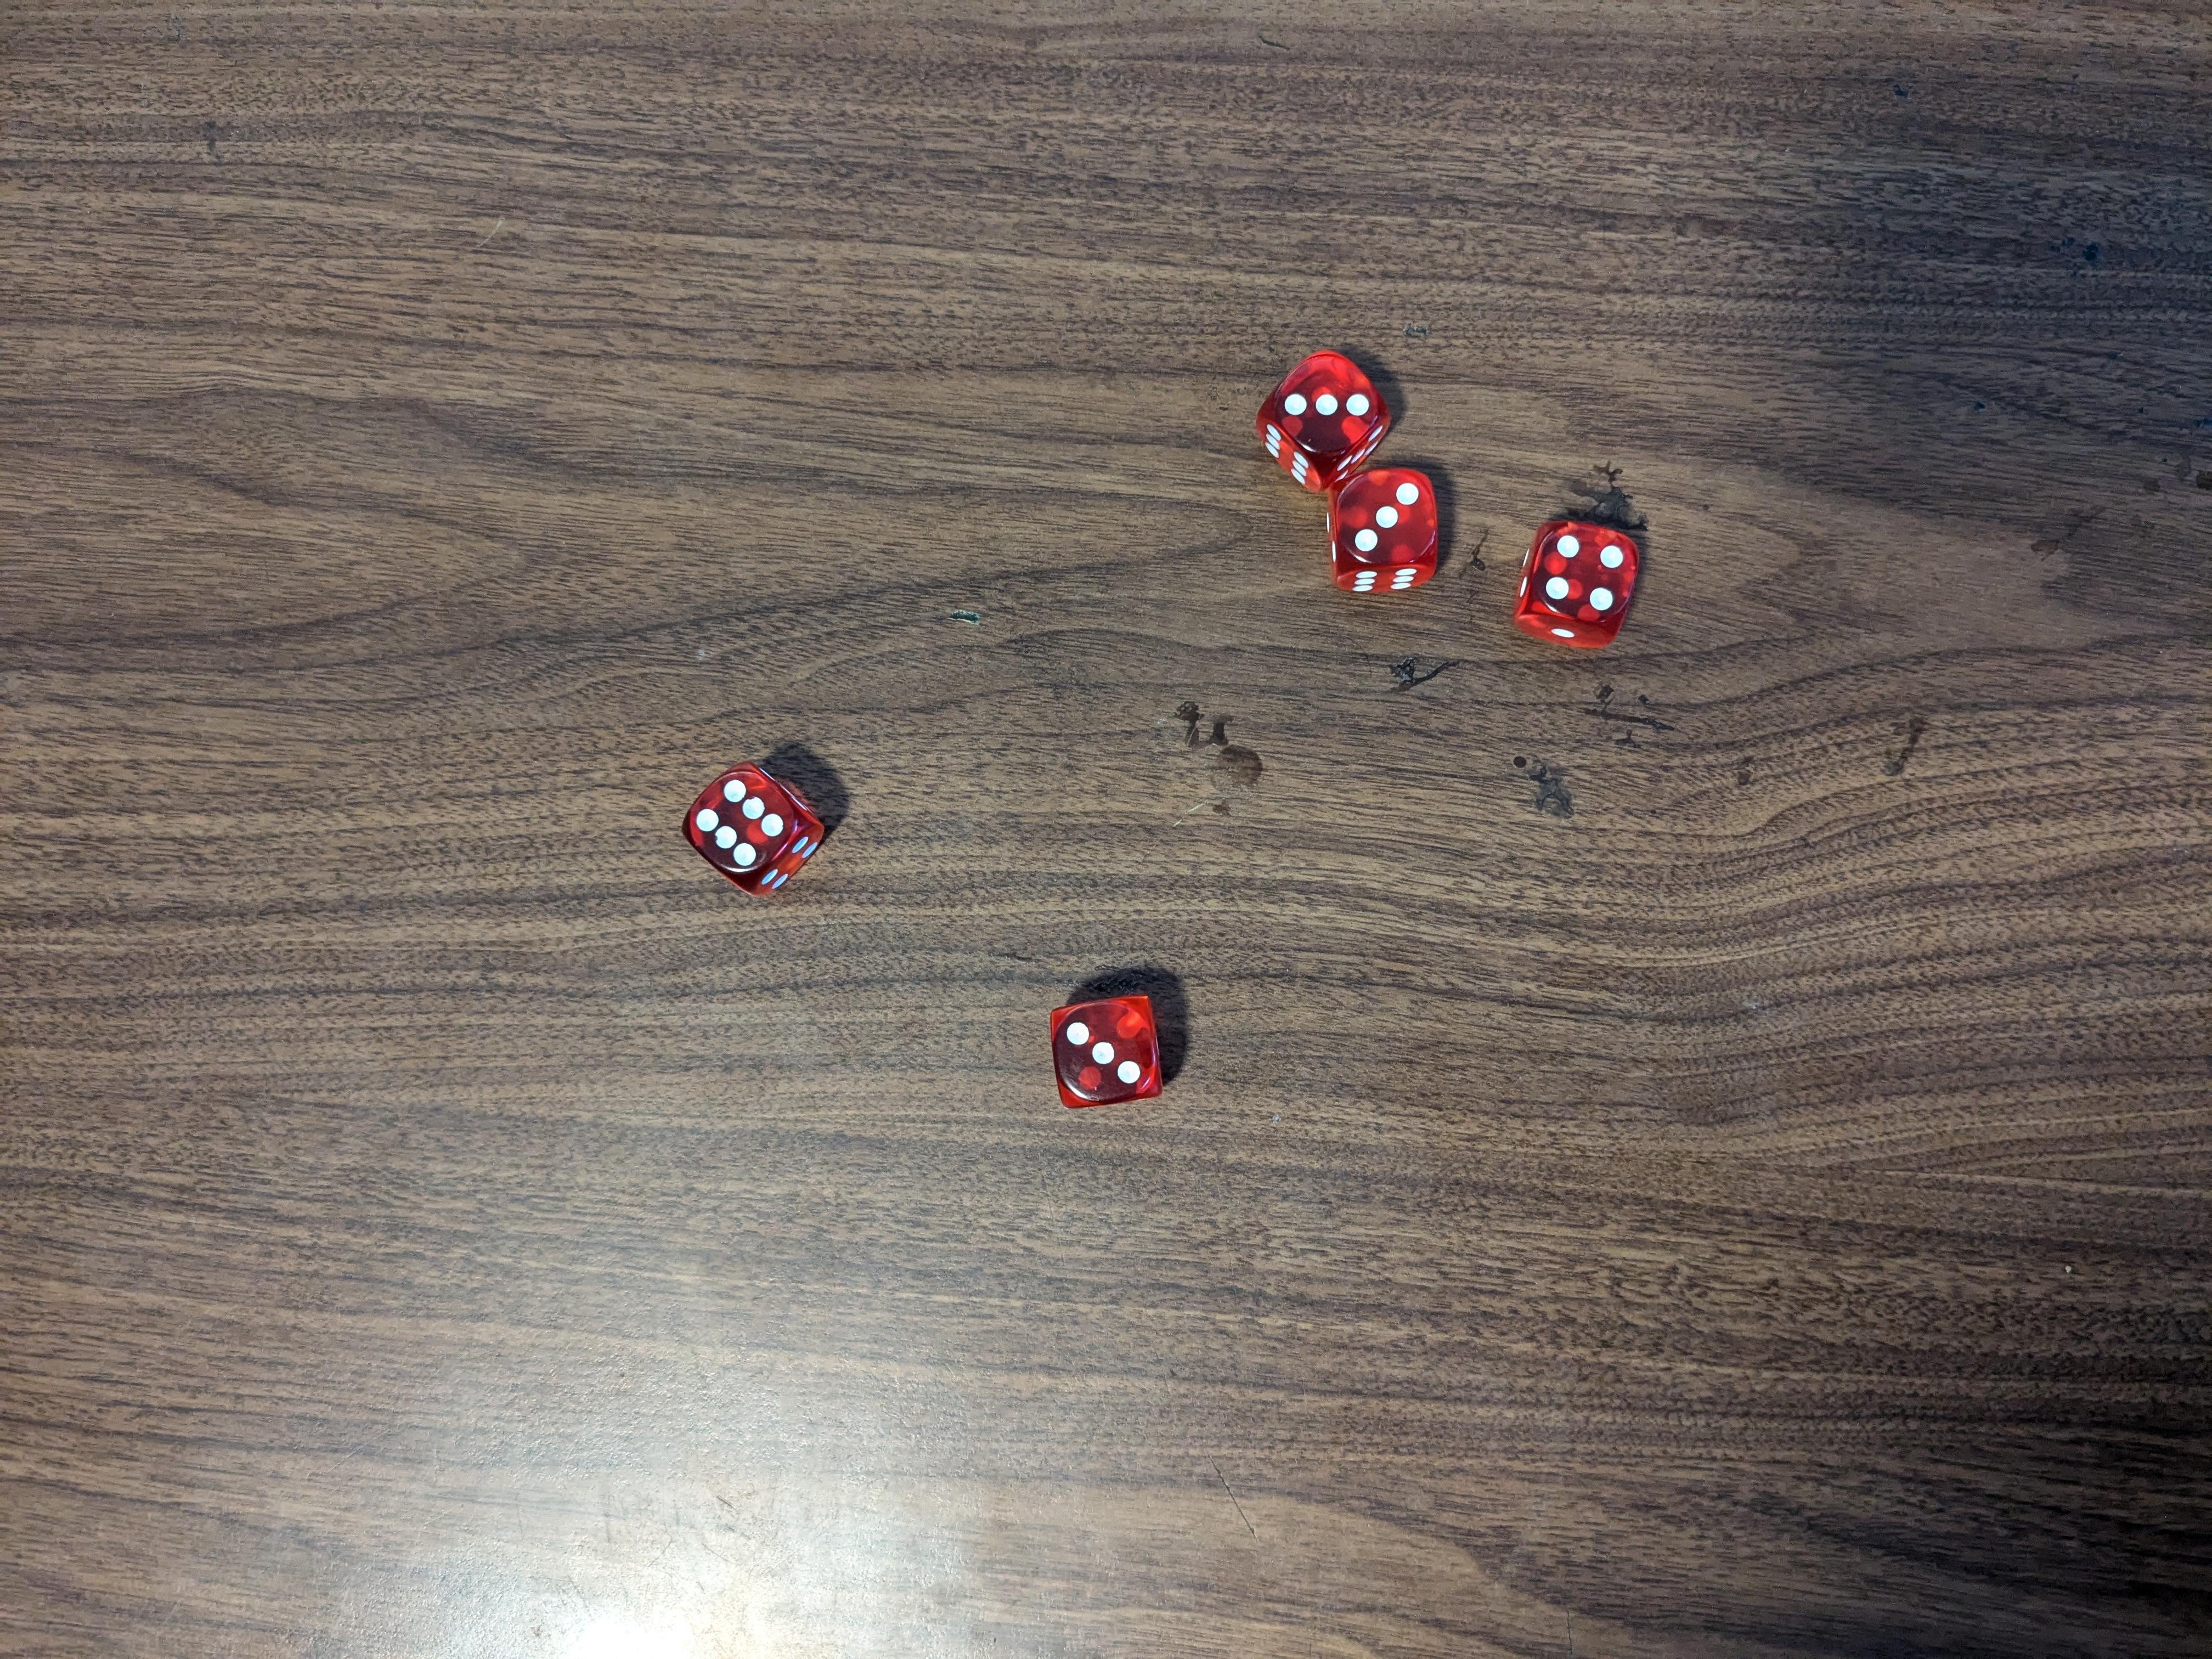four: (1508, 512, 1651, 653)
six: (683, 765, 829, 896)
three: (1266, 343, 1399, 497), (1325, 462, 1447, 601), (1054, 993, 1165, 1110)
